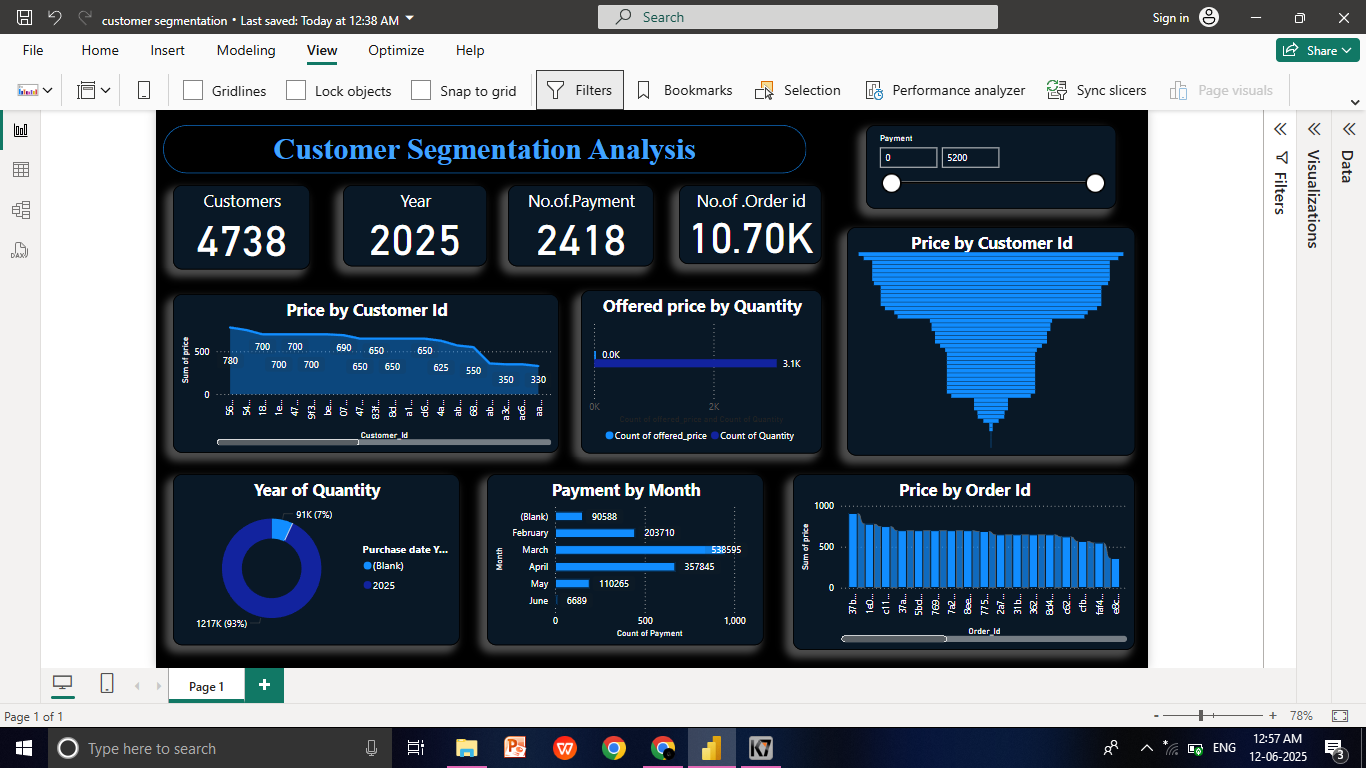

What the dashboard file says about the page in this screenshot:
{"tool":"powerbi","page":{"name":"Page 1","canvas":[1280,720],"ordinal":0},"visuals":[{"type":"donutChart","title":" Year of Quantity ","fields":{"Y":["Customer sentiment dataset.Quantity","Customer sentiment dataset.Payment"],"Category":["Customer sentiment dataset.Purchase_date.Variation.Date Hierarchy.Year"]},"box":[21.4,469.6,369.6,221.4],"z":0},{"type":"stackedAreaChart","title":"Price by Customer Id","fields":{"Category":["Customer sentiment dataset.Customer_Id"],"Y":["Customer sentiment dataset.price"]},"box":[21.4,237.5,498.2,205.4],"z":1000},{"type":"ribbonChart","title":"Price by Order Id","fields":{"Category":["Customer sentiment dataset.Order_Id"],"Y":["Customer sentiment dataset.price"]},"box":[821.4,469.6,441.1,226.8],"z":2000},{"type":"funnel","title":"Price by Customer Id","fields":{"Category":["Customer sentiment dataset.Customer_Id"],"Y":["Customer sentiment dataset.price"]},"box":[891.6,151,371.6,295.5],"z":3000},{"type":"slicer","fields":{"Values":["Customer sentiment dataset.Payment"]},"box":[940.8,19.5,322.1,108.6],"z":4000},{"type":"card","title":"No.of.Payment","fields":{"Values":["Customer sentiment dataset.Payment"]},"box":[453.6,96.4,187.5,105.4],"z":5000},{"type":"card","title":"No.of .Order id","fields":{"Values":["Customer sentiment dataset.Order_Id"]},"box":[675,96.4,183.9,101.8],"z":6000},{"type":"card","title":"Year","fields":{"Values":["Customer sentiment dataset.Purchase_date.Variation.Date Hierarchy.Year"]},"box":[241.1,96.4,185.7,105.4],"z":7000},{"type":"clusteredBarChart","title":"Payment by Month","fields":{"Y":["Customer sentiment dataset.Payment"],"Category":["Customer sentiment dataset.Purchase_date.Variation.Date Hierarchy.Month"]},"box":[426.8,469.6,357.1,221.4],"z":8000},{"type":"clusteredBarChart","title":"Offered price by Quantity","fields":{"Y":["Customer sentiment dataset.offered_price","Customer sentiment dataset.Quantity"]},"box":[548.2,232.1,310.7,210.7],"z":9000},{"type":"card","title":"Customers","fields":{"Values":["Customer sentiment dataset.Customer_Name"]},"box":[21.4,96.4,176.8,108.9],"z":10000},{"type":"shape","box":[8.9,19.6,830.4,62.5],"z":11000}]}

Visuals, with their boxes on the page's 1280x720 design canvas (x1, y1, x2, y2). These are canvas units, not pixel positions in the 1366x768 screenshot, which may show the page scaled, cropped or inside an application window:
" Year of Quantity " donutChart: {"x1": 21, "y1": 470, "x2": 391, "y2": 691}
"Price by Customer Id" stackedAreaChart: {"x1": 21, "y1": 238, "x2": 520, "y2": 443}
"Price by Order Id" ribbonChart: {"x1": 821, "y1": 470, "x2": 1262, "y2": 696}
"Price by Customer Id" funnel: {"x1": 892, "y1": 151, "x2": 1263, "y2": 446}
slicer - Customer sentiment dataset.Payment: {"x1": 941, "y1": 20, "x2": 1263, "y2": 128}
"No.of.Payment" card: {"x1": 454, "y1": 96, "x2": 641, "y2": 202}
"No.of .Order id" card: {"x1": 675, "y1": 96, "x2": 859, "y2": 198}
"Year" card: {"x1": 241, "y1": 96, "x2": 427, "y2": 202}
"Payment by Month" clusteredBarChart: {"x1": 427, "y1": 470, "x2": 784, "y2": 691}
"Offered price by Quantity" clusteredBarChart: {"x1": 548, "y1": 232, "x2": 859, "y2": 443}
"Customers" card: {"x1": 21, "y1": 96, "x2": 198, "y2": 205}
shape: {"x1": 9, "y1": 20, "x2": 839, "y2": 82}
